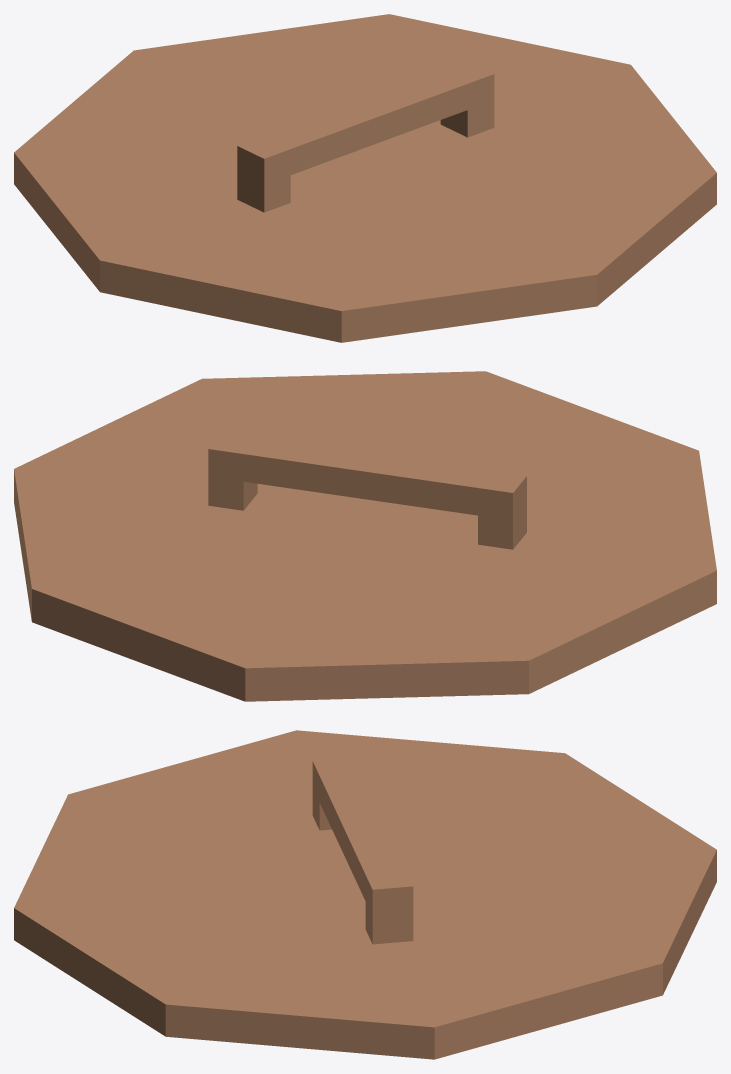
File: Barrel_Lid Asia.fbx
3 views of the same model, one above another, from view 1: azimuth 30°, elevation 25°; view 2: azimuth 150°, elevation 25°; view 3: azimuth 270°, elevation 25° (orthographic). The views are drawn at different scales.
Visible parts, largest first — view 1: Barrel_Lid; view 2: Barrel_Lid; view 3: Barrel_Lid.
Boxes of the visible parts, x1=… form: Barrel_Lid: x1=14, y1=14, x2=716, y2=342; Barrel_Lid: x1=14, y1=371, x2=716, y2=701; Barrel_Lid: x1=14, y1=730, x2=716, y2=1059.
Bounding box in the file's own units: 0.3879 × 0.0529 × 0.3879.
